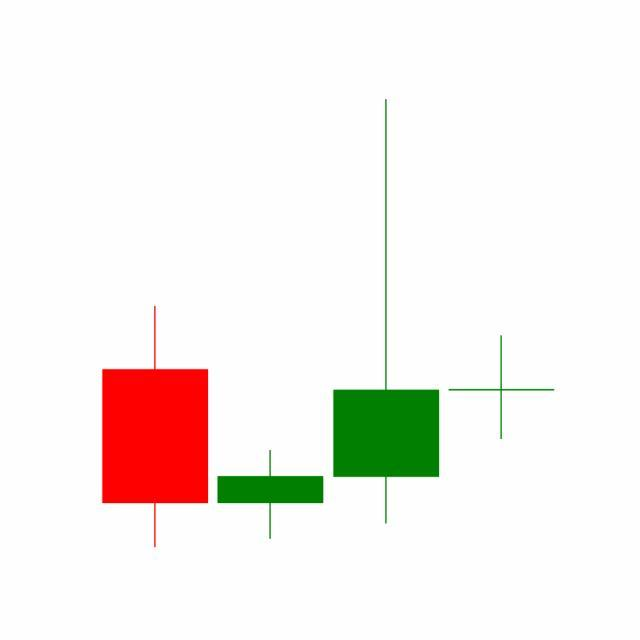Spinning Top: (444, 335, 560, 441)
